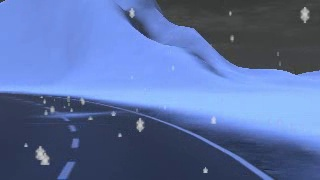Lane: (0, 93, 275, 179)
